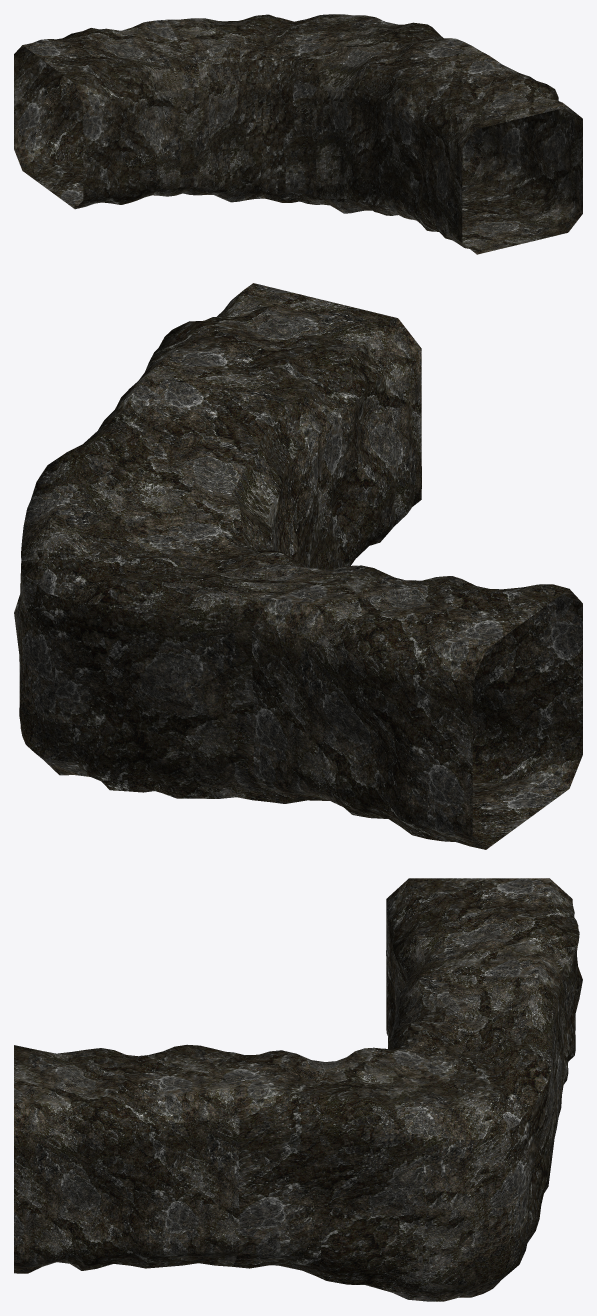
The model's file is Cave_072.fbx.
3 renders of one model, top to bottom at view 1: azimuth 30°, elevation 25°; view 2: azimuth 150°, elevation 25°; view 3: azimuth 270°, elevation 25°, orthographic. The views are drawn at different scales.
Parts seen in each view (by area): view 1: Cave.072; view 2: Cave.072; view 3: Cave.072.
Boxes of the visible parts, x1,y1,x2,y2 form: Cave.072: [14, 14, 582, 254]; Cave.072: [14, 283, 582, 849]; Cave.072: [14, 878, 582, 1301].
Size of the model in its own units: 910 by 407 by 917.
